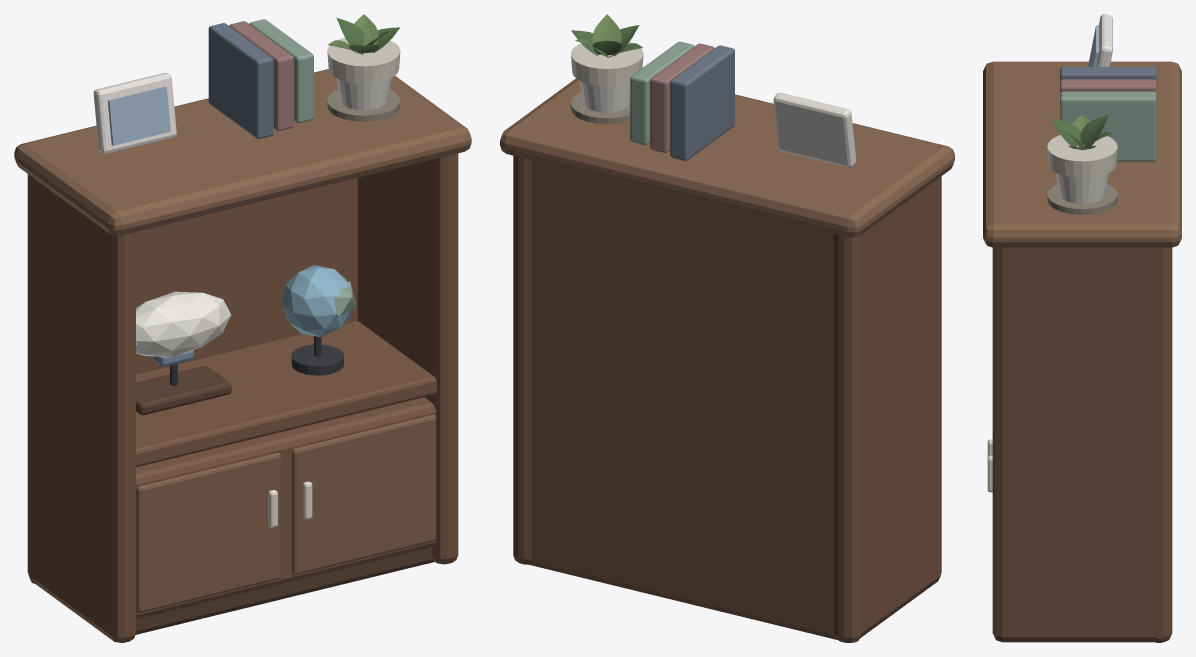
The model's file is boss_cabinet.glb.
3 views of the same model, side by side, from view 1: azimuth 30°, elevation 25°; view 2: azimuth 150°, elevation 25°; view 3: azimuth 270°, elevation 25° (orthographic). The views are drawn at different scales.
Parts seen in each view (by area): view 1: Cabinet, CabPlant; view 2: Cabinet, CabPlant; view 3: Cabinet, CabPlant.
Part boxes in pixels (x1,y1,x2,y2): Cabinet: (14, 19, 471, 642); CabPlant: (327, 14, 400, 121); Cabinet: (500, 41, 954, 642); CabPlant: (570, 14, 643, 124); Cabinet: (983, 14, 1181, 642); CabPlant: (1047, 114, 1117, 214).
Bounding box in the file's own units: 0.63 × 0.861 × 0.31.
